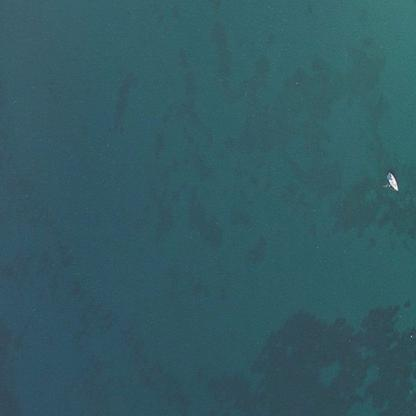ship: (384, 13, 398, 17)
